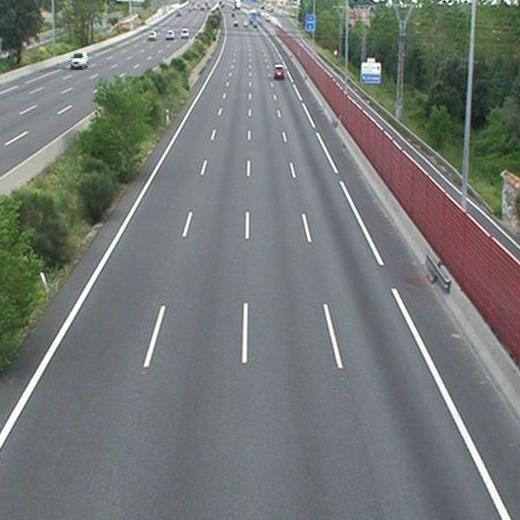car: (274, 66, 284, 78)
